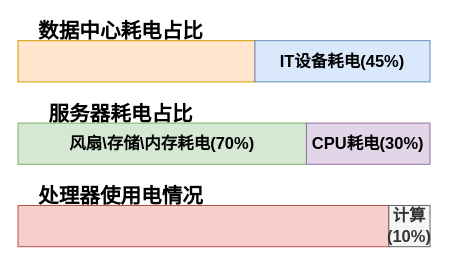
Some shapes in this 449 by 265 pixel diagram are drawn without their labels. The shapes that lost their labels are listed below. From the top down, each one's centre as x and y in pixels, then its label:
pixel 136 61: 空调照明等耗电(占55%)
pixel 203 225: 闲置(90%)
